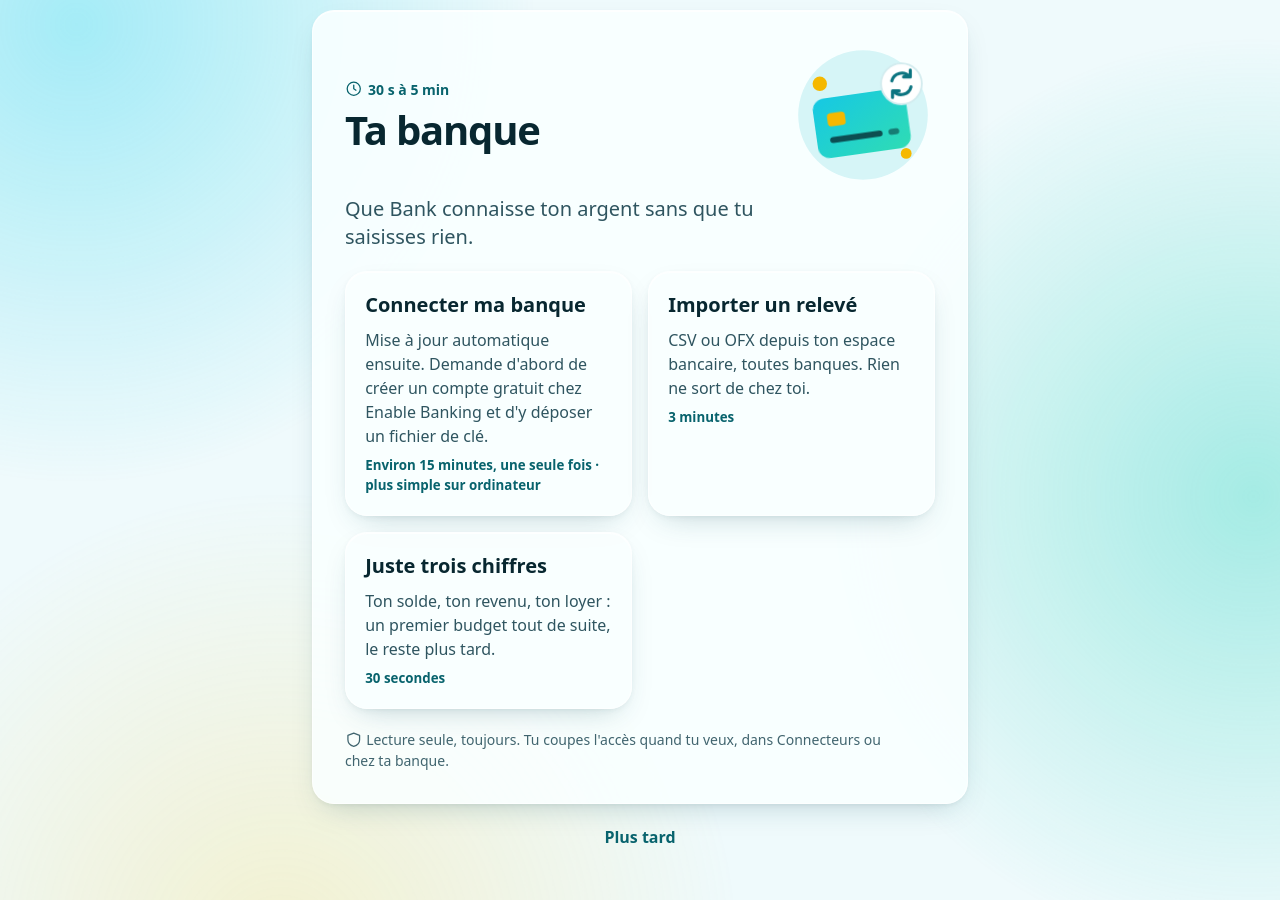
it: mouvement › a step change runs in a view transition, slides the right way and still lands the focus on the new title
(page scrolled)
Click the button "Plus tard": (640, 838) x1=583 y1=816 x2=697 y2=860
(page scrolled)
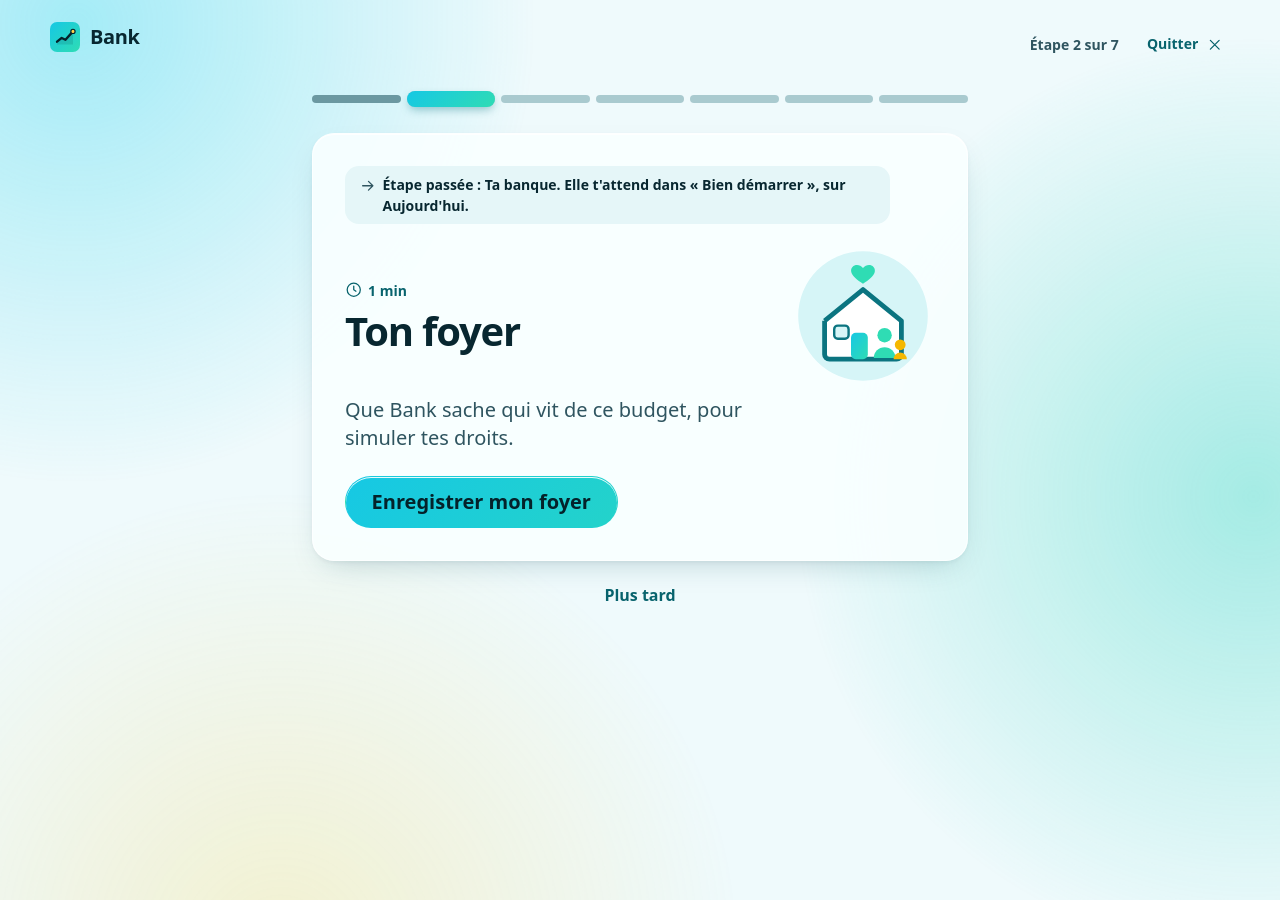
Check: the heading "Ton foyer" is shown, box x1=345 y1=303 x2=520 y2=358
Click the 1st link: (356, 99) x1=312 y1=77 x2=401 y2=121
(page scrolled)
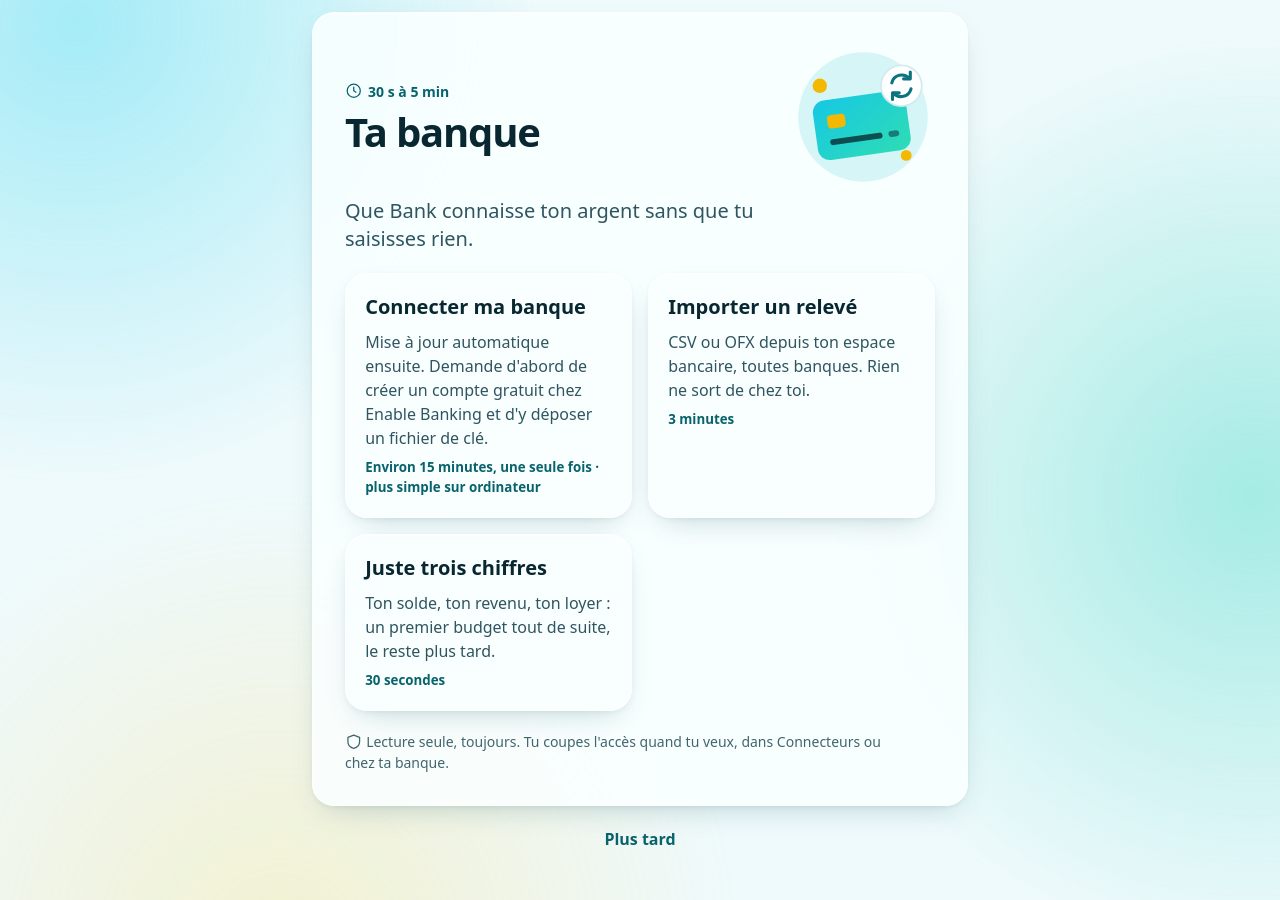
Check: the heading "Ta banque" is shown, box x1=345 y1=104 x2=540 y2=159
